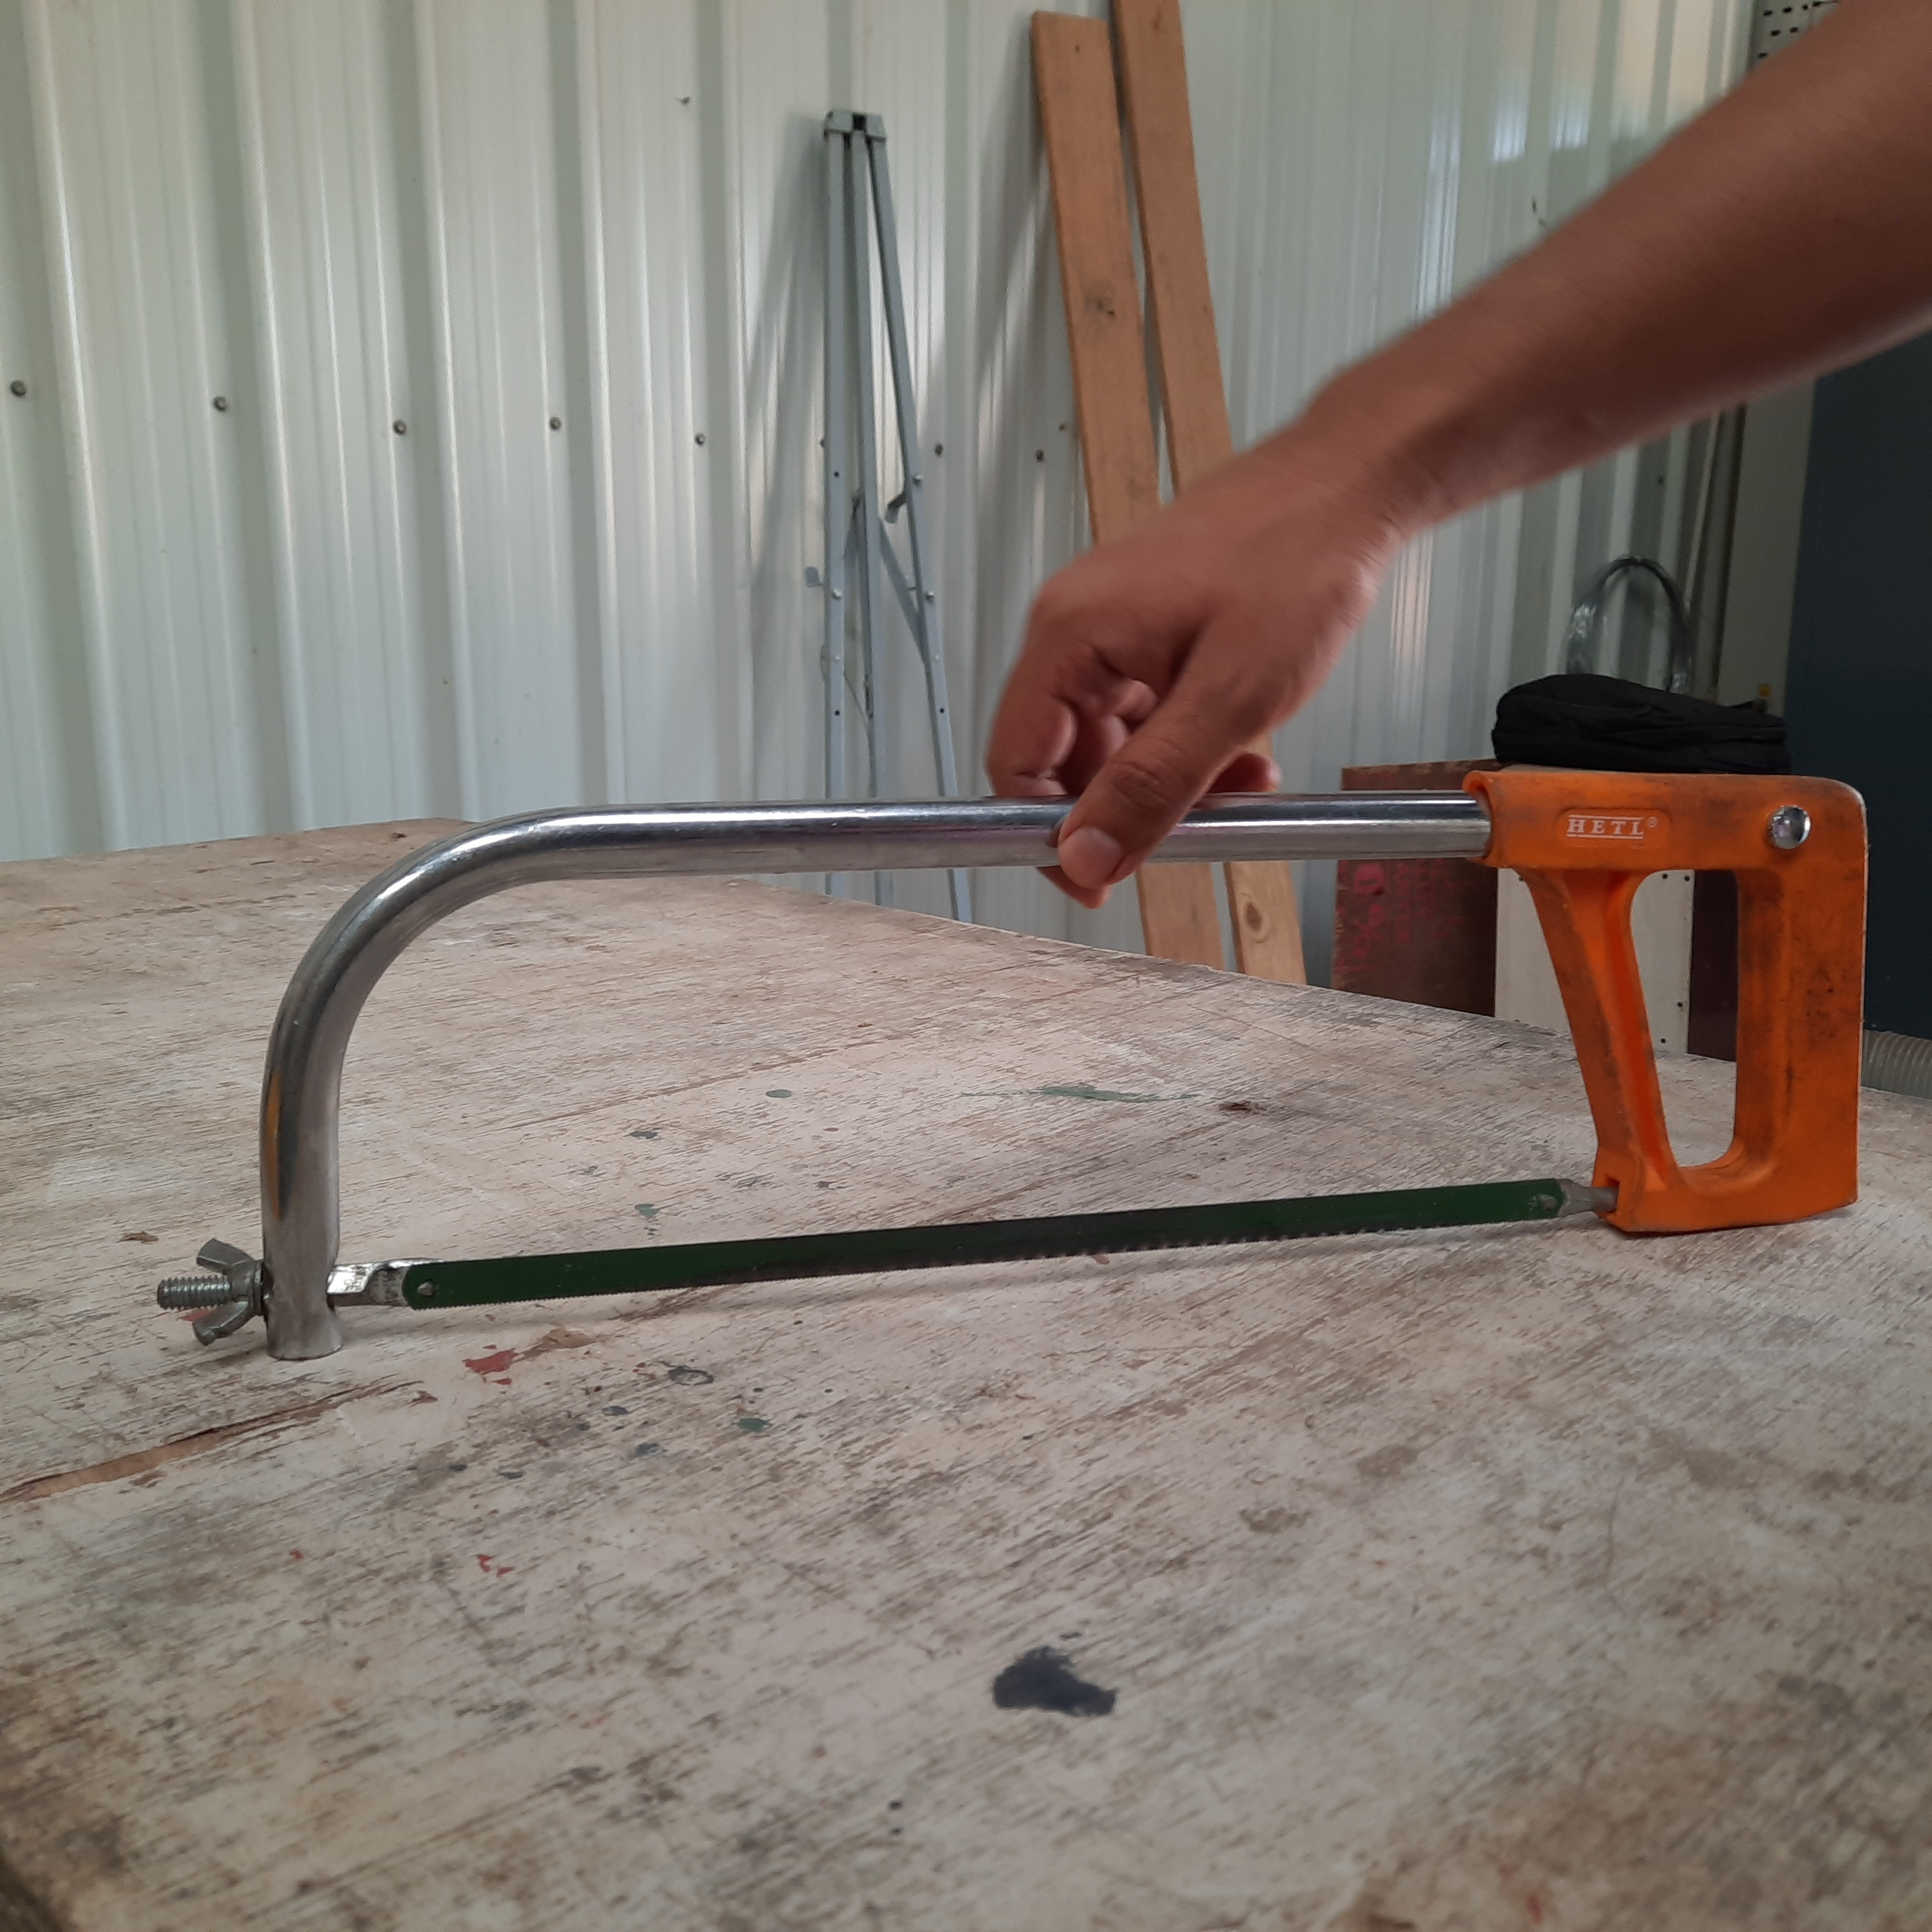Hexaframe: (156, 778, 1877, 1376)
